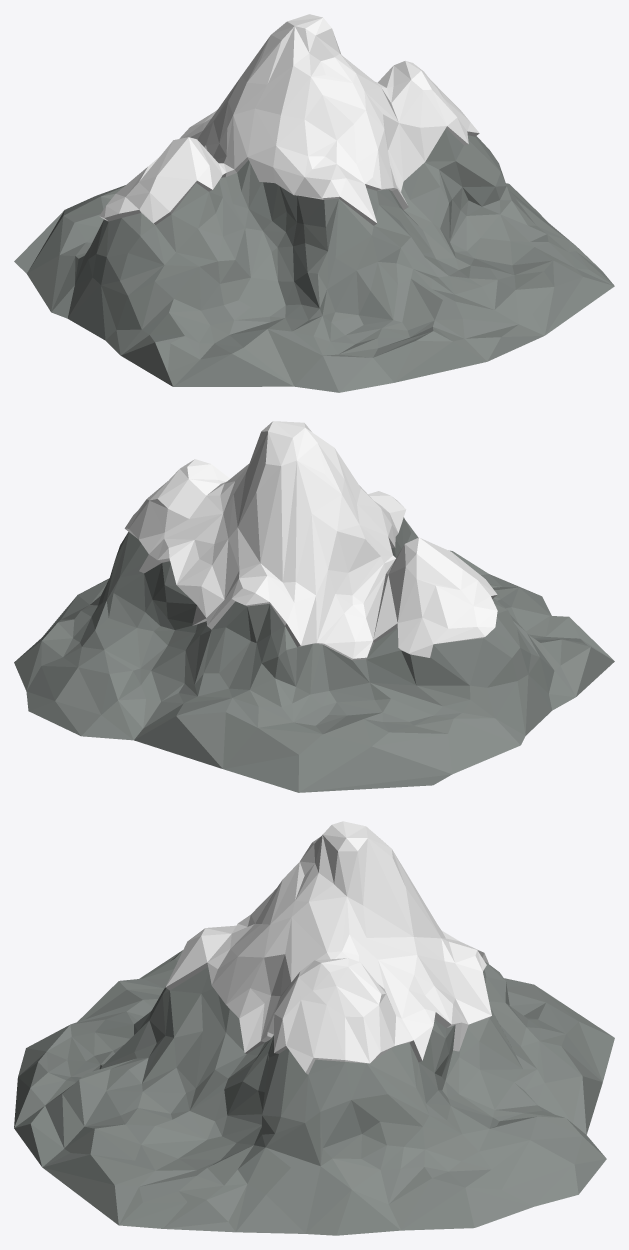
The model's file is SM_Generic_Mountains_Snow_01.fbx.
The picture shows the model from 3 angles, top to bottom: view 1: azimuth 30°, elevation 25°; view 2: azimuth 150°, elevation 25°; view 3: azimuth 270°, elevation 25°; orthographic projection. The views are drawn at different scales.
Parts seen in each view (by area): view 1: SM_Generic_Mountains_Snow_01; view 2: SM_Generic_Mountains_Snow_01; view 3: SM_Generic_Mountains_Snow_01.
Boxes of the visible parts, x1,y1,x2,y2 form: SM_Generic_Mountains_Snow_01: (14,14,614,392); SM_Generic_Mountains_Snow_01: (14,421,614,792); SM_Generic_Mountains_Snow_01: (14,821,614,1235).
Size of the model in its own units: 2077 by 1031 by 2010.
